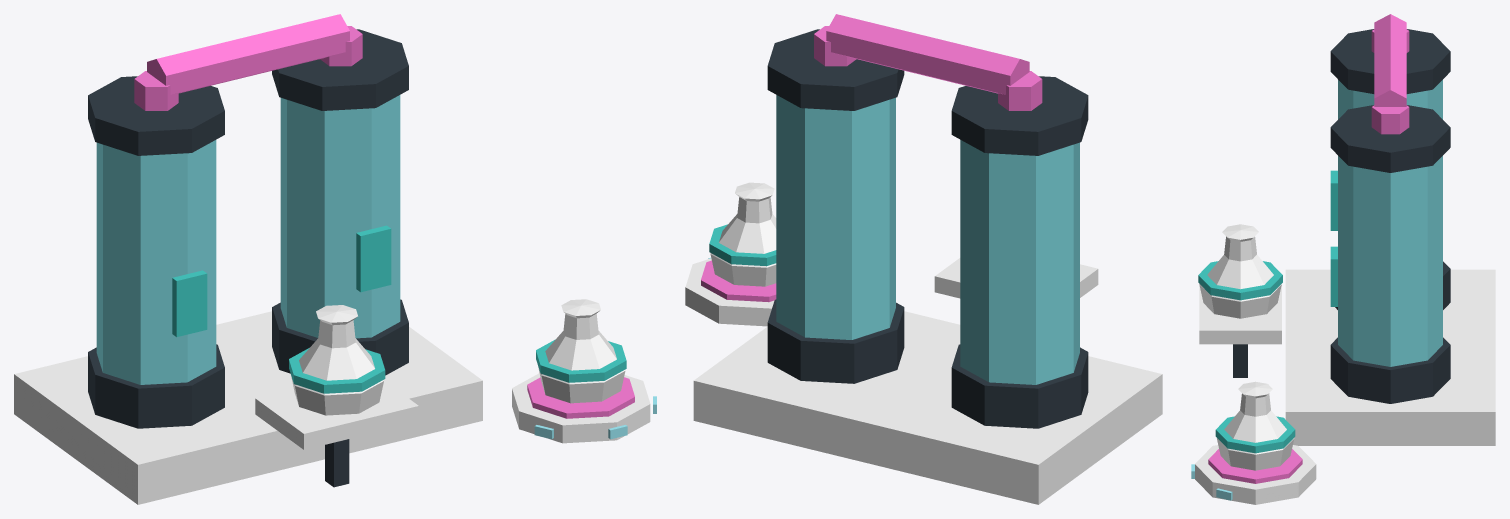
File: lab-landmark-s2b.glb
3 views of the same model, side by side, from view 1: azimuth 30°, elevation 25°; view 2: azimuth 150°, elevation 25°; view 3: azimuth 270°, elevation 25° (orthographic). The views are drawn at different scales.
Visible parts, largest first — view 1: lab-landmark-s2b; view 2: lab-landmark-s2b; view 3: lab-landmark-s2b.
Boxes of the visible parts, x1,y1,x2,y2 form: lab-landmark-s2b: [14, 14, 656, 504]; lab-landmark-s2b: [685, 14, 1162, 504]; lab-landmark-s2b: [1191, 14, 1495, 504].
Size of the model in its own units: 1.27 by 0.95 by 0.811.
